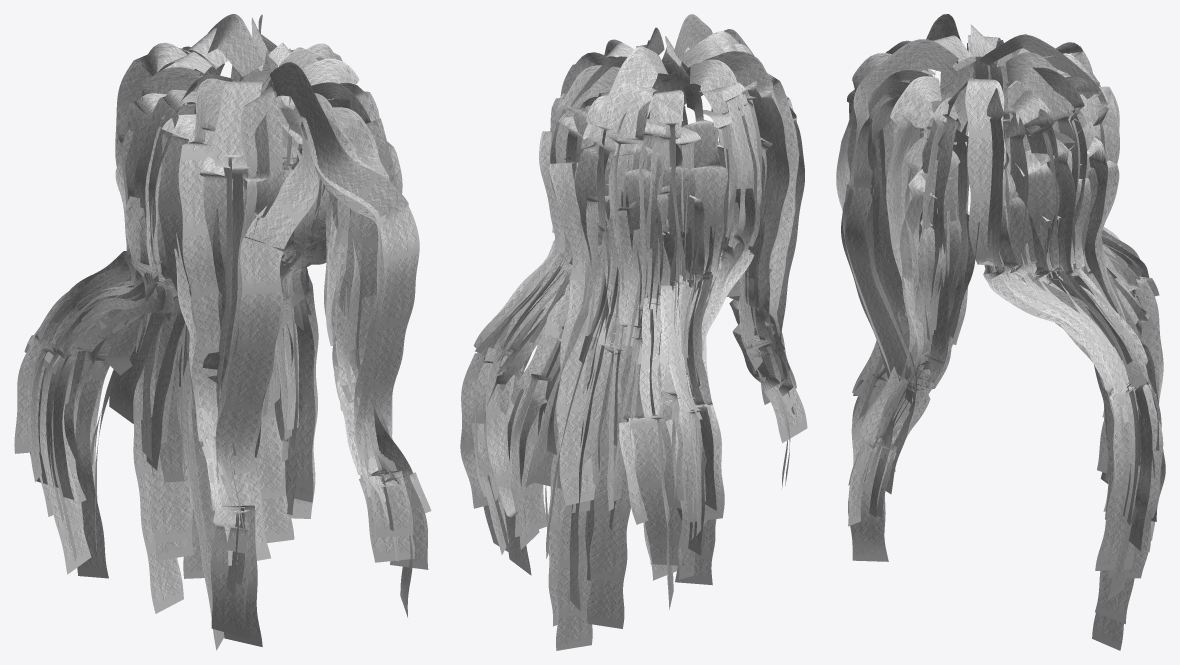
The model's file is NC_Head_Male_Cards4.fbx.
The picture shows the model from 3 angles, left to right: view 1: azimuth 30°, elevation 25°; view 2: azimuth 150°, elevation 25°; view 3: azimuth 270°, elevation 25°; orthographic projection. The views are drawn at different scales.
Parts seen in each view (by area): view 1: Hair_LongCurls_Cards, Hair_LongCurls_Cards_2, Hair_Curls_CapCards; view 2: Hair_LongCurls_Cards, Hair_LongCurls_Cards_2, Hair_Curls_CapCards; view 3: Hair_LongCurls_Cards, Hair_LongCurls_Cards_2, Hair_Curls_CapCards.
Part boxes in pixels (x1=…): Hair_LongCurls_Cards: x1=30, y1=14, x2=428, y2=646; Hair_LongCurls_Cards_2: x1=14, y1=14, x2=431, y2=650; Hair_Curls_CapCards: x1=51, y1=156, x2=360, y2=388; Hair_LongCurls_Cards: x1=471, y1=14, x2=797, y2=628; Hair_LongCurls_Cards_2: x1=460, y1=27, x2=807, y2=650; Hair_Curls_CapCards: x1=487, y1=135, x2=764, y2=380; Hair_LongCurls_Cards: x1=841, y1=14, x2=1163, y2=624; Hair_LongCurls_Cards_2: x1=836, y1=24, x2=1165, y2=650; Hair_Curls_CapCards: x1=909, y1=126, x2=1132, y2=364.
Size of the model in its own units: 1.22 by 2.63 by 1.31.
1 material, 1 textured.
